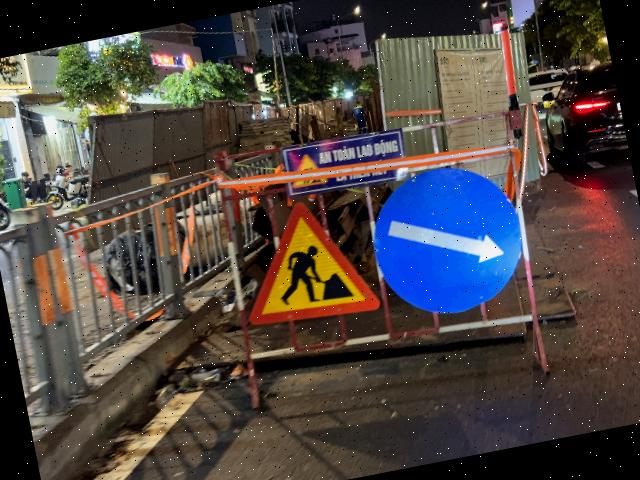cong-truong-dang-thi-cong: (229, 191, 381, 335)
huong-phai-di-vong-chuong-ngai-vat: (362, 156, 530, 325)
